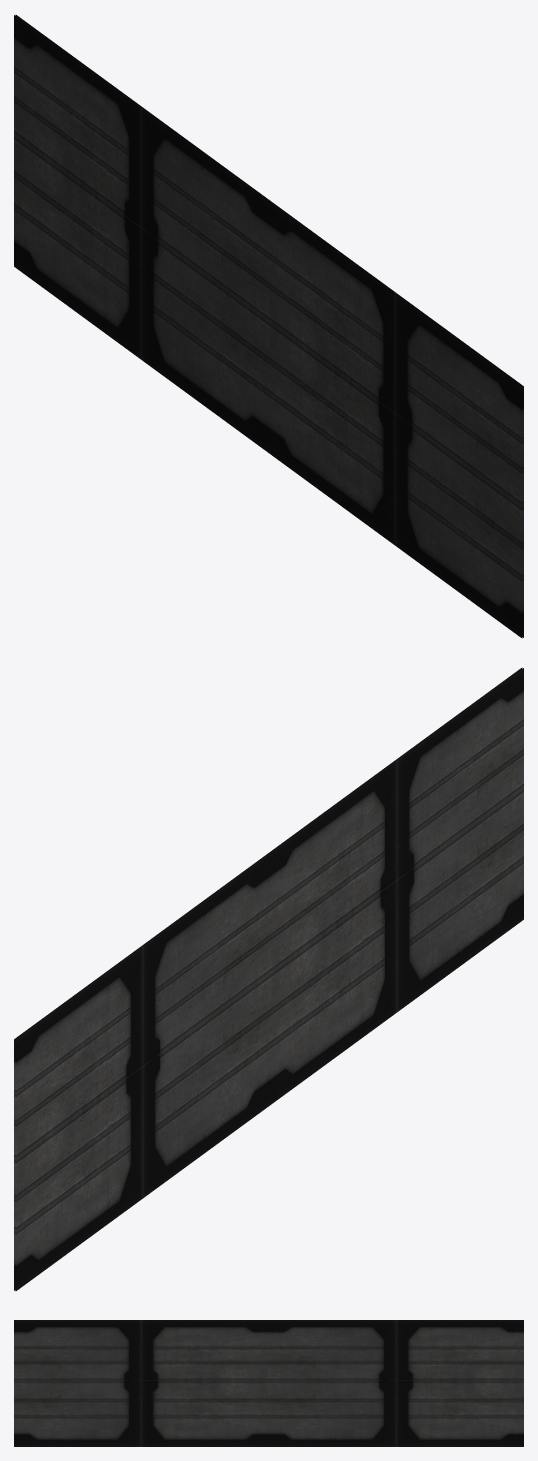
File: p6_metal_panel_railing_128_lod2.glb
The picture shows the model from 3 angles, top to bottom: view 1: azimuth 30°, elevation 25°; view 2: azimuth 150°, elevation 25°; view 3: azimuth 270°, elevation 25°; orthographic projection. The views are drawn at different scales.
Visible parts, largest first — view 1: surf0; view 2: surf0; view 3: surf0.
Boxes of the visible parts, box(x1,y1,x2,y2) form: surf0: box(14, 14, 523, 638); surf0: box(14, 667, 523, 1291); surf0: box(14, 1320, 523, 1446).
Size of the model in its own units: 0.2517 by 35 by 128.
